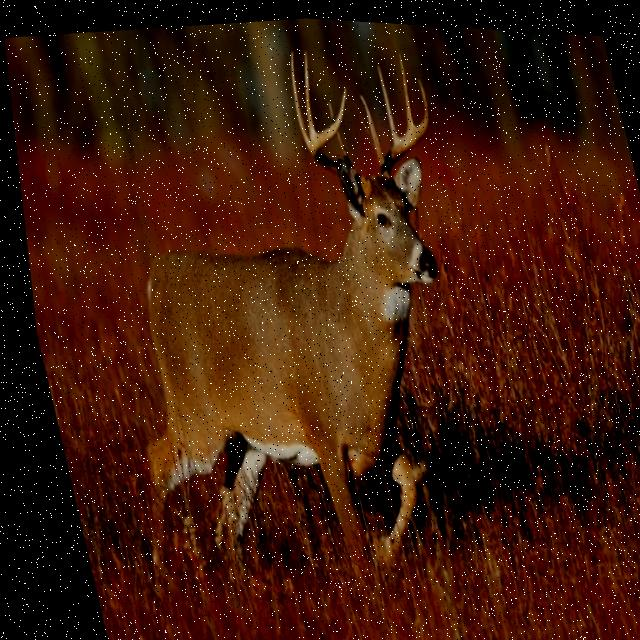L-G2: (289, 46, 309, 152)
L-G3: (303, 46, 313, 136)
R-F: (378, 72, 428, 174)
R-G1: (358, 90, 382, 167)
R-G2: (376, 60, 396, 138)
R-G3: (397, 48, 412, 124)
